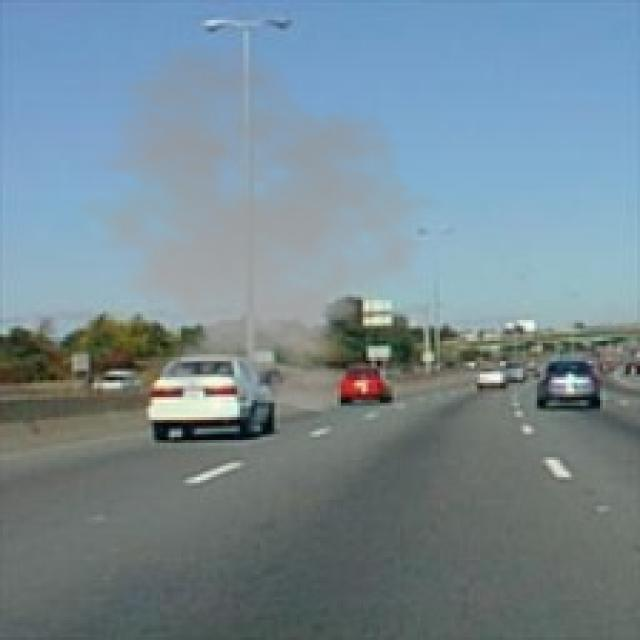Smoke: (60, 40, 440, 417)
